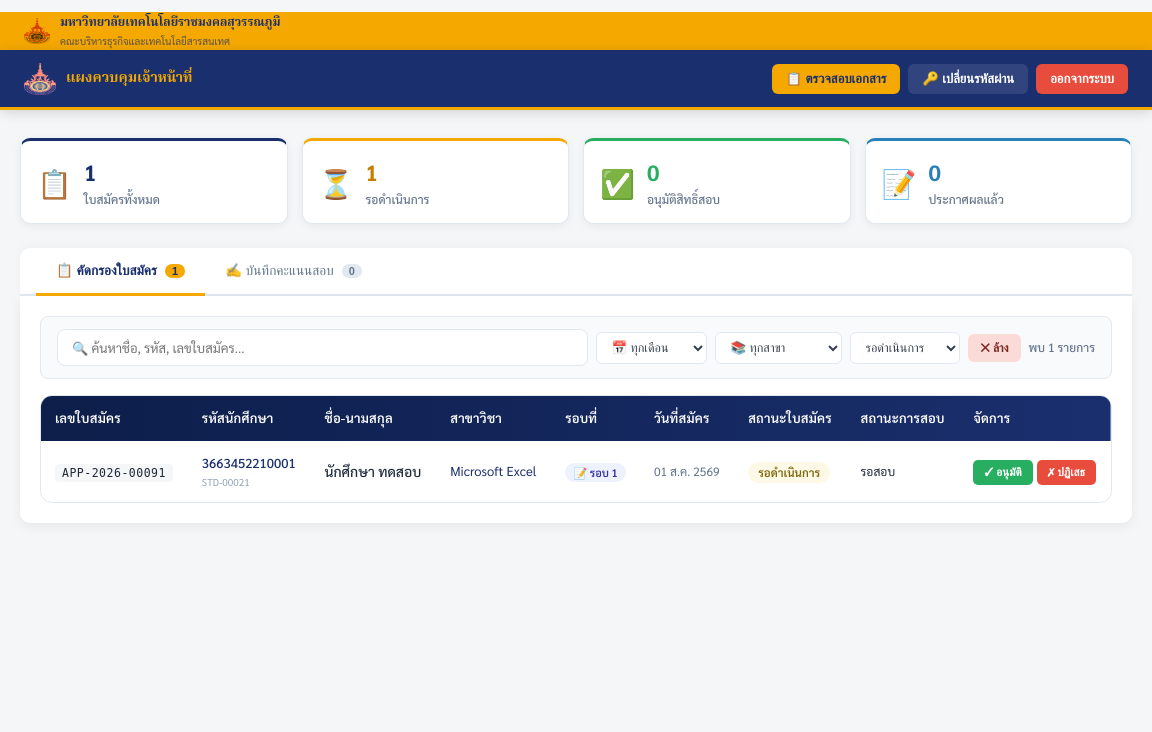
staff can approve an exam application and it leaves the pending filter
Expected: the text "APP-2026-00091" is shown, x1=55 y1=464 x2=173 y2=482
Step 1. Click the button "✓ อนุมัติ" → (1003, 472), box x1=973 y1=460 x2=1033 y2=485
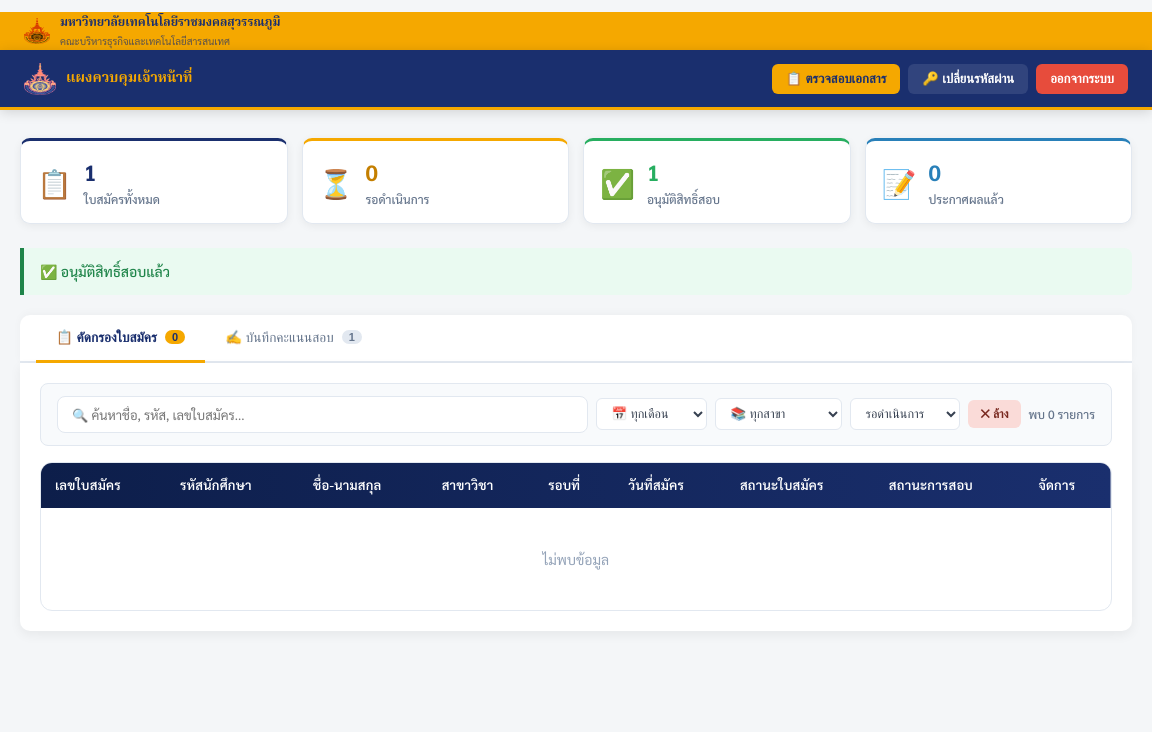
Now the text "APP-2026-00091" is gone
